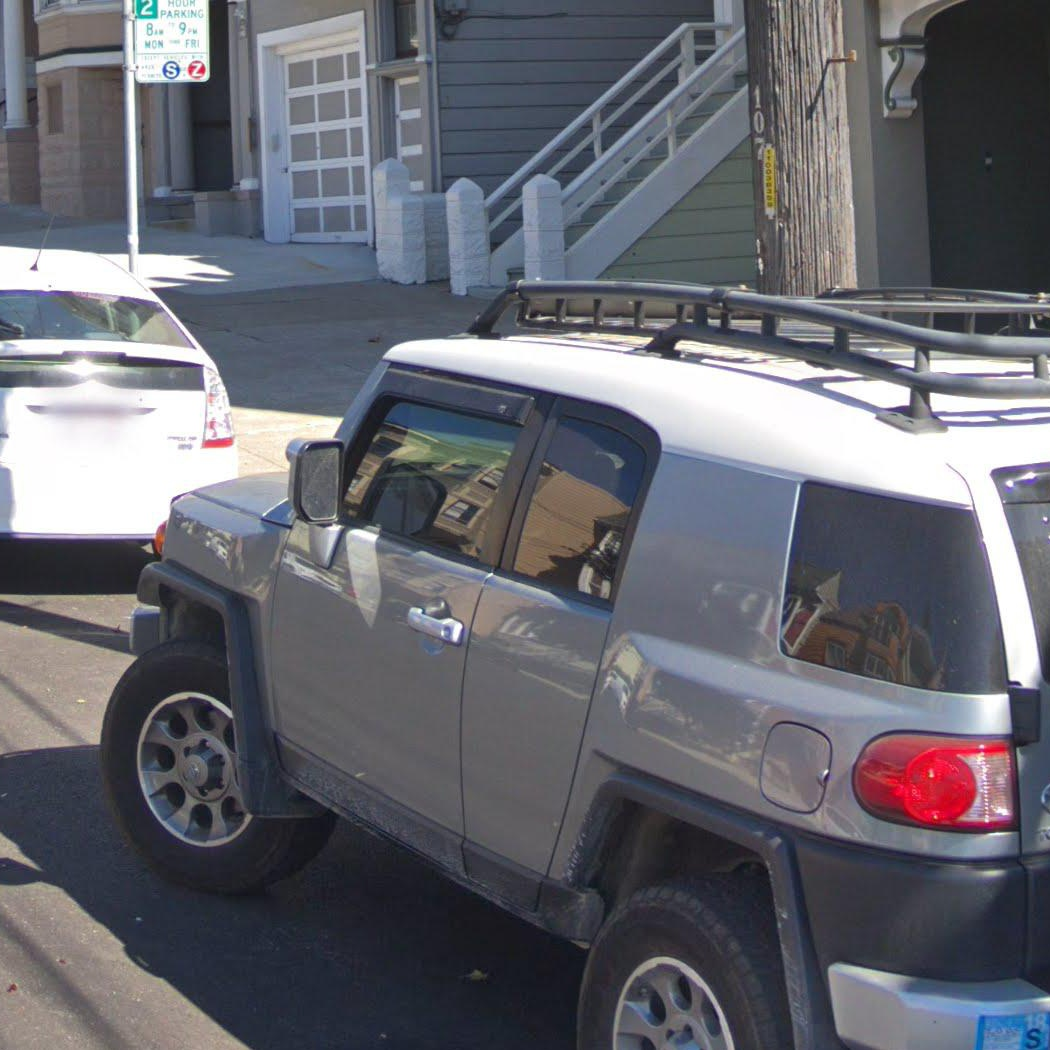2 Hour Parking: (131, 0, 212, 86)
